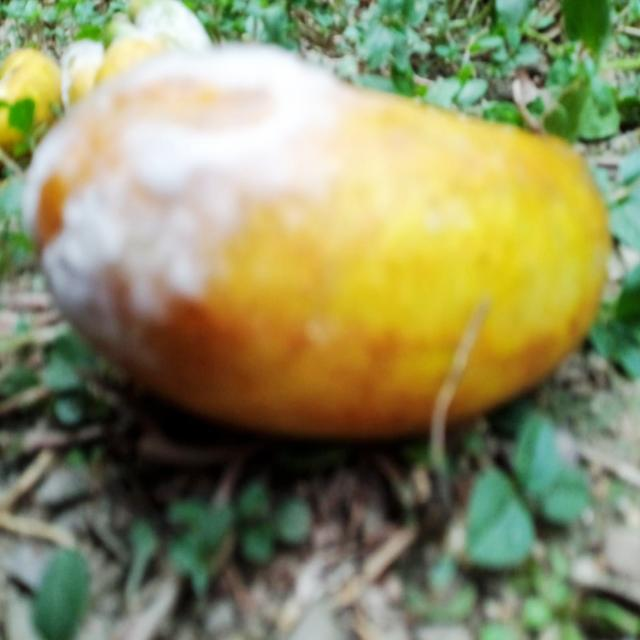Pythium-Fruit-Rot: (23, 45, 336, 359)
